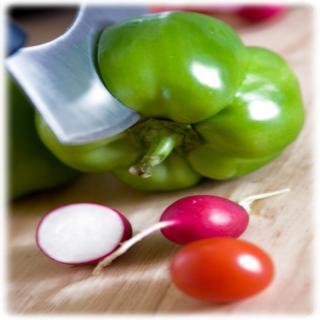tomato: (158, 240, 278, 302)
